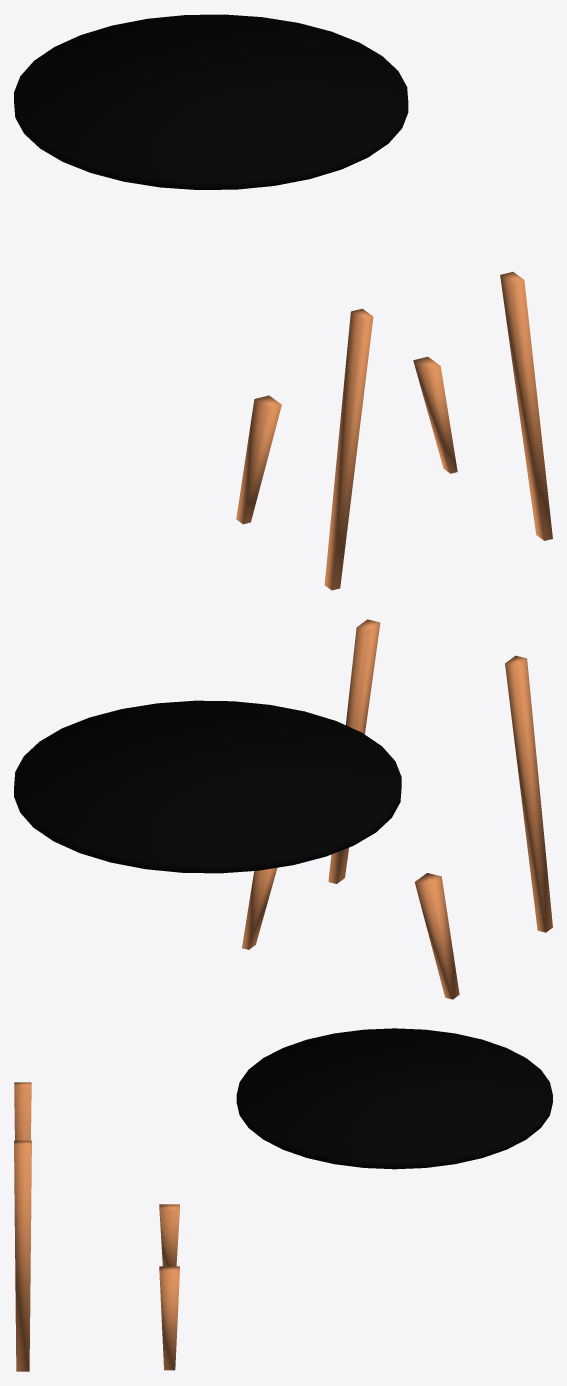
File: table_chair_2.obj
The picture shows the model from 3 angles, top to bottom: view 1: azimuth 30°, elevation 25°; view 2: azimuth 150°, elevation 25°; view 3: azimuth 270°, elevation 25°; orthographic projection. The views are drawn at different scales.
Size of the model in its own units: 0.8436 by 0.6918 by 1.44.
